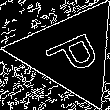P_NE: (36, 25, 105, 81)
